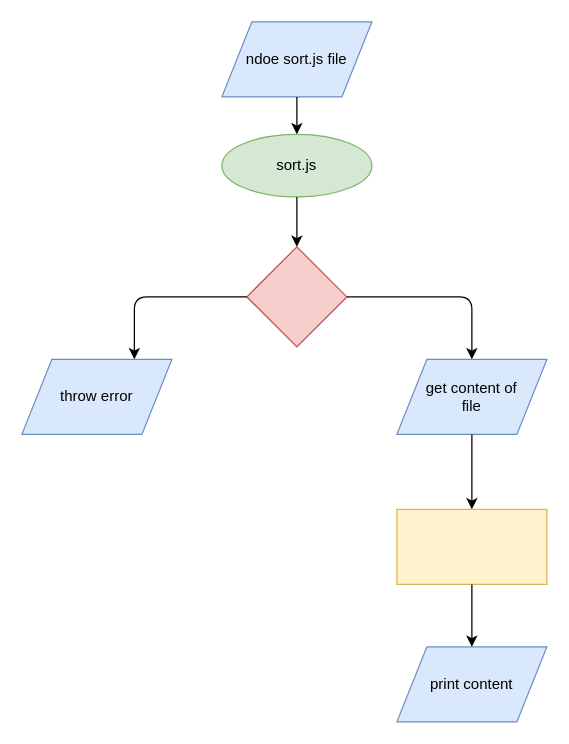
Some shapes in this 569 by 744 pixel diagram are drawn without their labels. The shapes that lost their labels are listed below. From the top down, each one's centre as x and y in pixels, then its label:
pixel 296 296: file is available
pixel 471 546: sort
